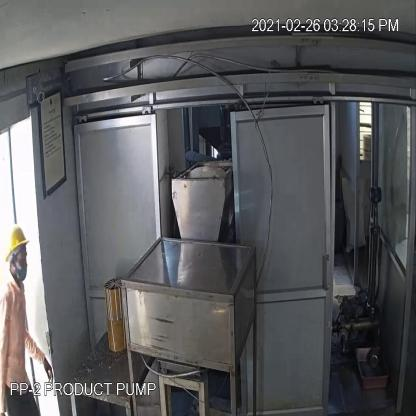helmet: (0, 216, 32, 264)
